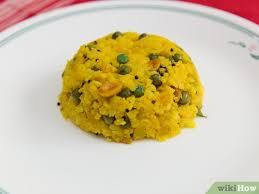poha: (59, 30, 210, 146)
